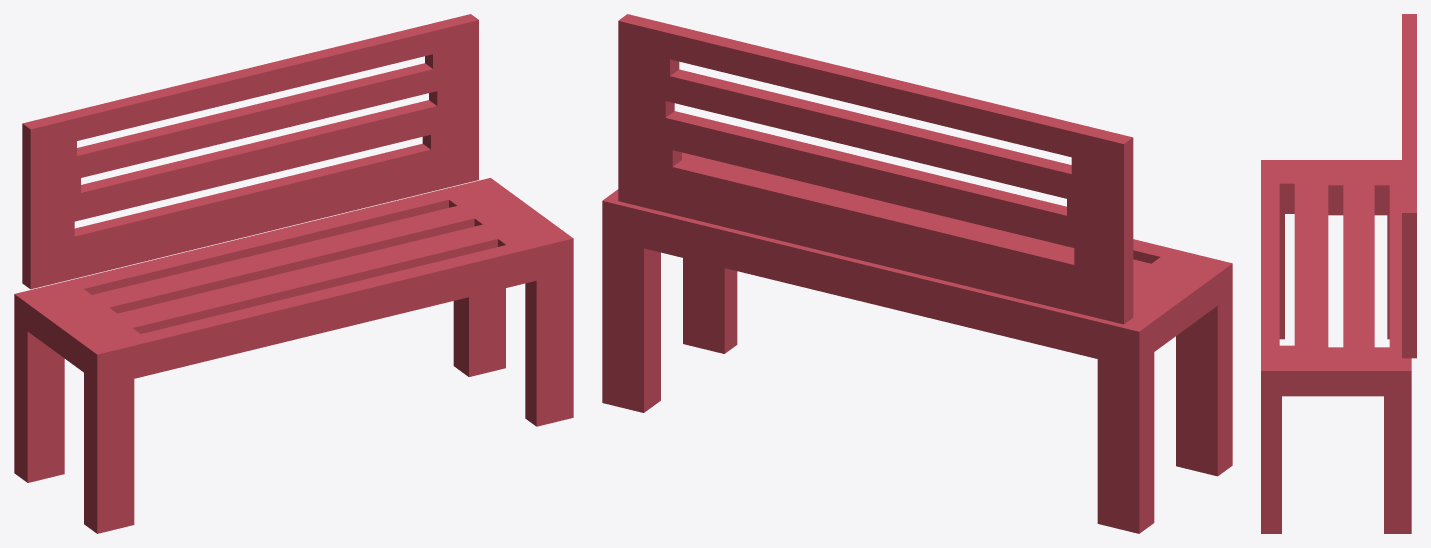
Rendered from bench.glb.
3 renders of one model, left to right at view 1: azimuth 30°, elevation 25°; view 2: azimuth 150°, elevation 25°; view 3: azimuth 270°, elevation 25°, orthographic. The views are drawn at different scales.
Parts seen in each view (by area): view 1: Mesh_Mesh_head_geo.001_lambert2SG.001; view 2: Mesh_Mesh_head_geo.001_lambert2SG.001; view 3: Mesh_Mesh_head_geo.001_lambert2SG.001.
Boxes of the visible parts, x1,y1,x2,y2 form: Mesh_Mesh_head_geo.001_lambert2SG.001: (14,14,573,533); Mesh_Mesh_head_geo.001_lambert2SG.001: (602,14,1232,533); Mesh_Mesh_head_geo.001_lambert2SG.001: (1261,14,1416,533).
Bounding box in the file's own units: 118 × 82.01 × 36.93.
